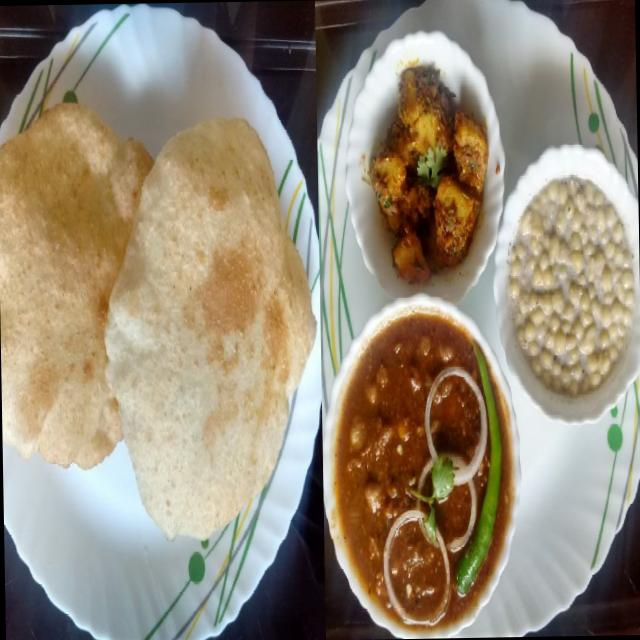Bhatura: (0, 90, 313, 545)
